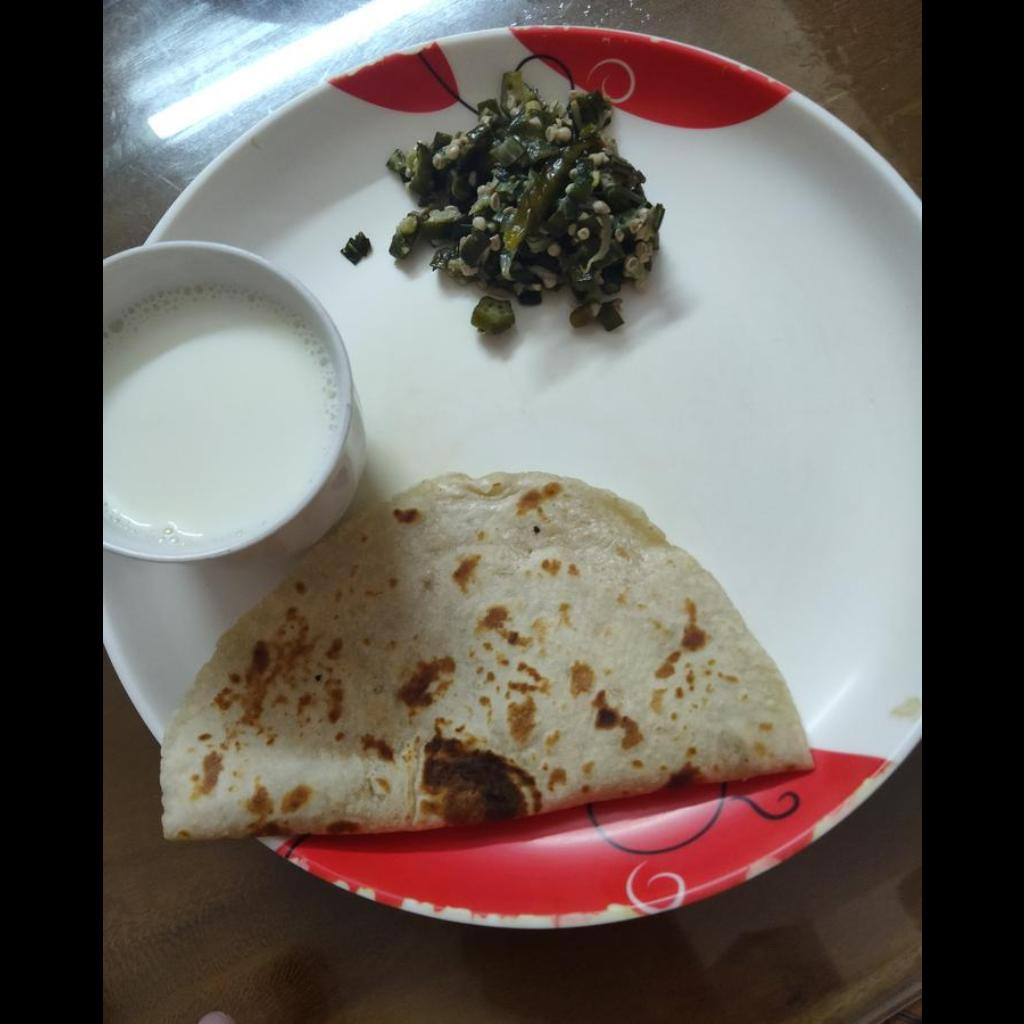milk: (102, 293, 331, 538)
okra: (377, 78, 659, 334)
ruti: (153, 472, 814, 836)
